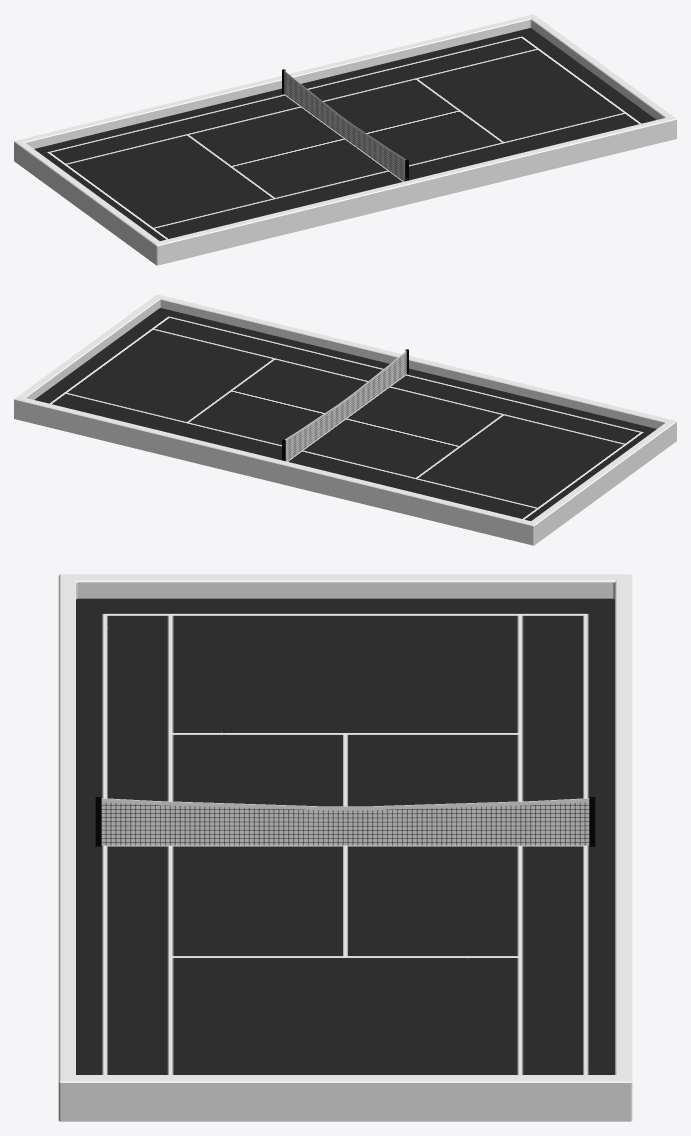
Rendered from TennisCourt.fbx.
3 renders of one model, top to bottom at view 1: azimuth 30°, elevation 25°; view 2: azimuth 150°, elevation 25°; view 3: azimuth 270°, elevation 25°, orthographic. The views are drawn at different scales.
Visible parts, largest first — view 1: Court, NetSideB, NetFrame; view 2: Court, NetSideB, NetFrame; view 3: Court, NetSideA, NetFrame.
Part boxes in pixels (x1,y1,x2,y2): Court: [14, 14, 676, 265]; NetSideB: [284, 73, 405, 181]; NetFrame: [282, 69, 408, 181]; Court: [14, 294, 676, 545]; NetSideB: [285, 353, 406, 461]; NetFrame: [282, 349, 408, 461]; Court: [58, 574, 632, 1121]; NetSideA: [101, 802, 589, 845]; NetFrame: [95, 797, 595, 846].
Size of the model in its own units: 24.48 by 1.57 by 11.68.
